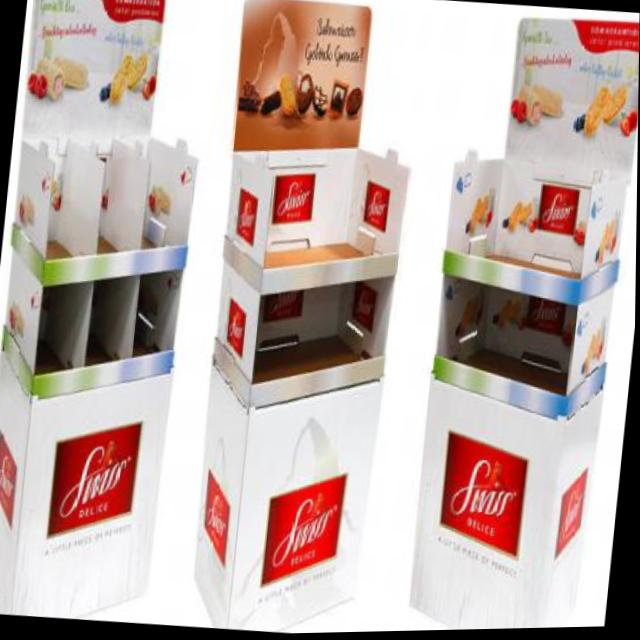box: (173, 0, 446, 637), (401, 0, 640, 633), (0, 0, 217, 627)
